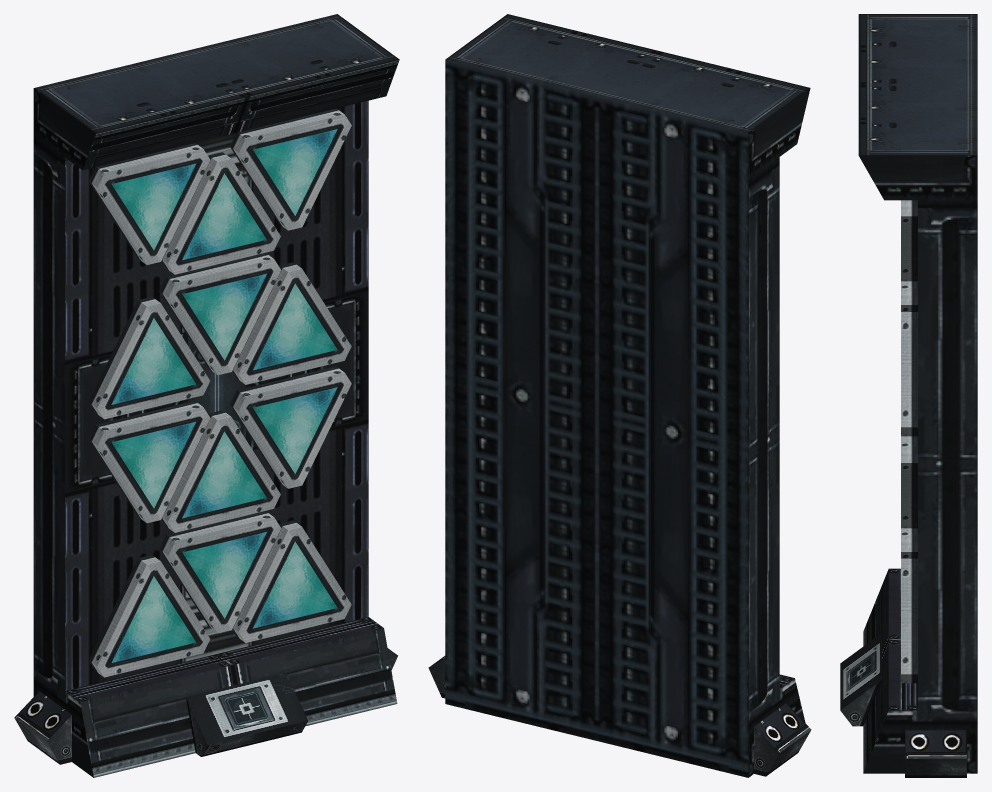
The model's file is Battery_large_06.FBX.
3 views of the same model, side by side, from view 1: azimuth 30°, elevation 25°; view 2: azimuth 150°, elevation 25°; view 3: azimuth 270°, elevation 25° (orthographic). The views are drawn at different scales.
Visible parts, largest first — view 1: Battery_large_06; view 2: Battery_large_06; view 3: Battery_large_06.
Part boxes in pixels (x1,y1,x2,y2): Battery_large_06: (14,14,399,777); Battery_large_06: (428,14,811,777); Battery_large_06: (840,14,977,777).
Bounding box in the file's own units: 222 × 389 × 78.49.
